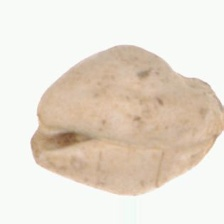L1: (29, 99, 83, 163)
L2: (29, 44, 223, 197)
